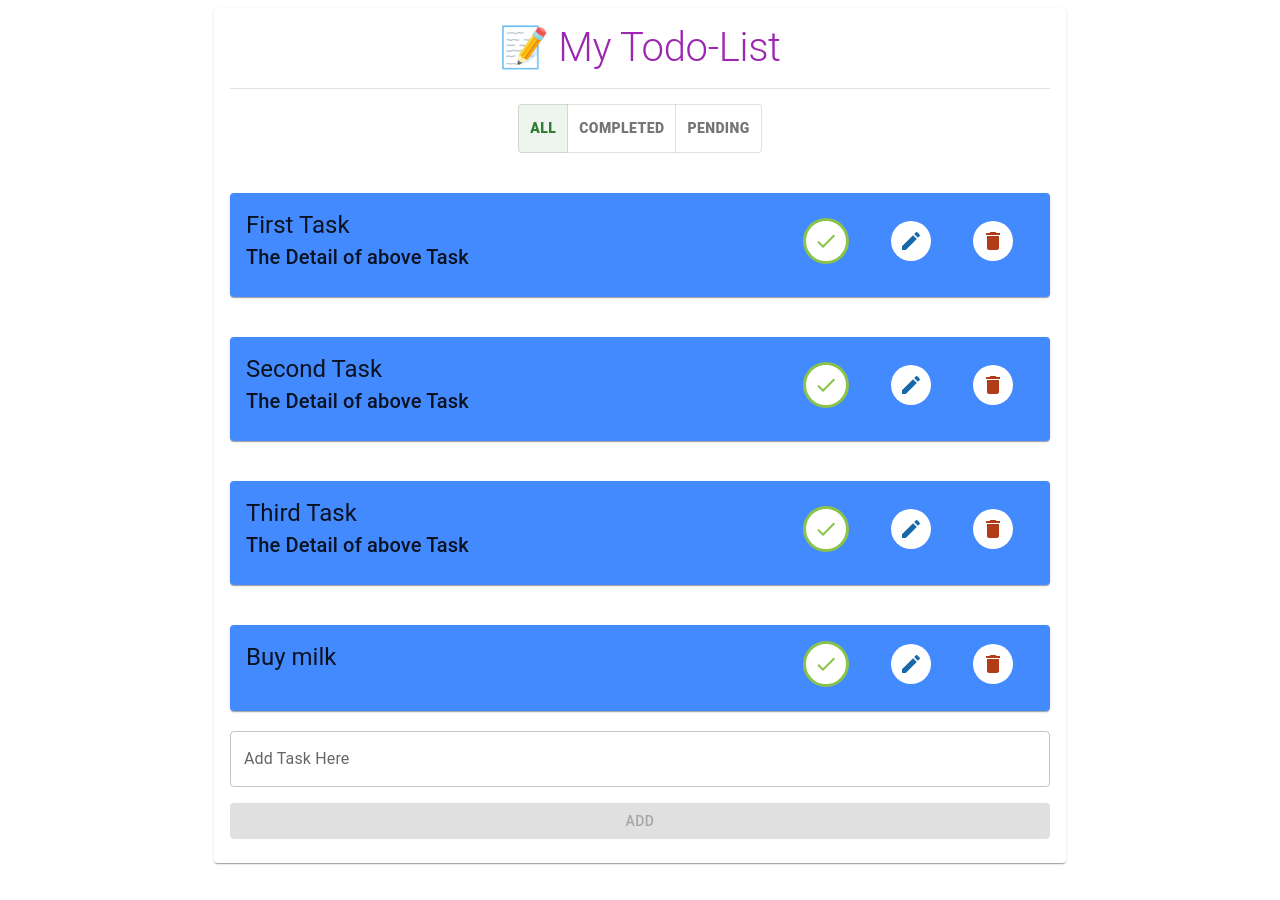
Test: deletes a todo when delete button clicked
Click the button named "delete" in the row of "First Task" at (993, 240), box [973,220,1013,260]
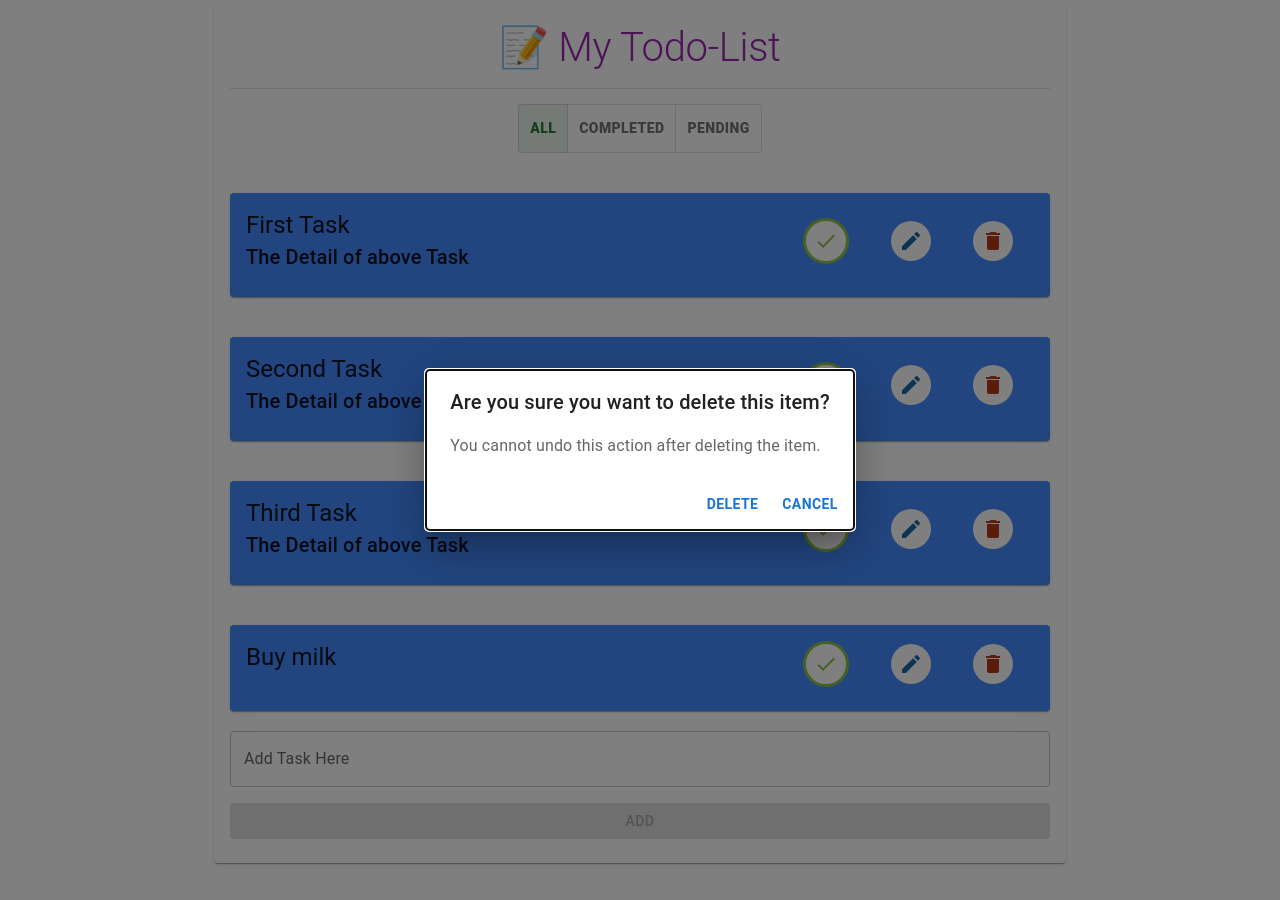
Click the button "Delete" at (733, 504), box [699,486,766,522]
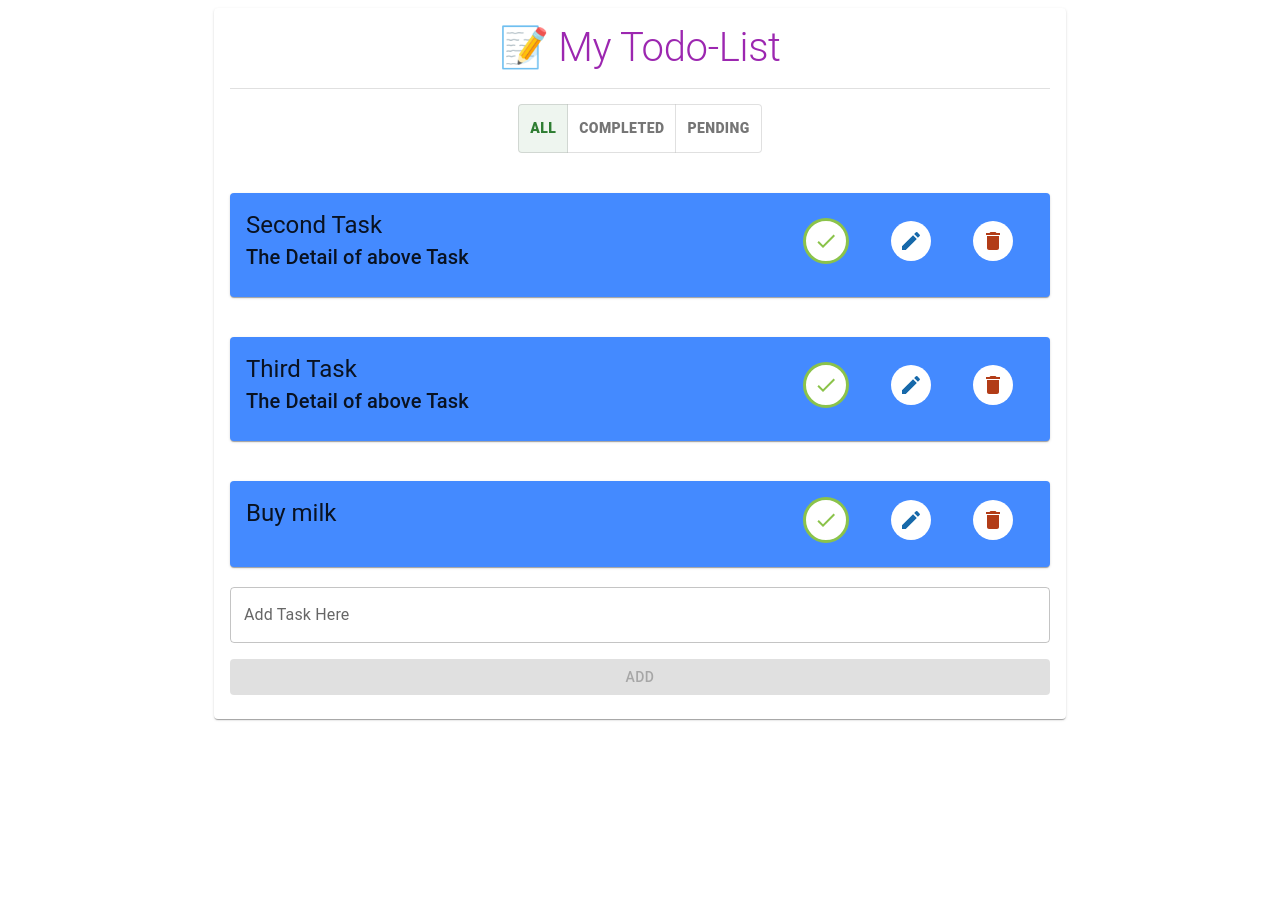
Expected: the heading "First Task" is gone
